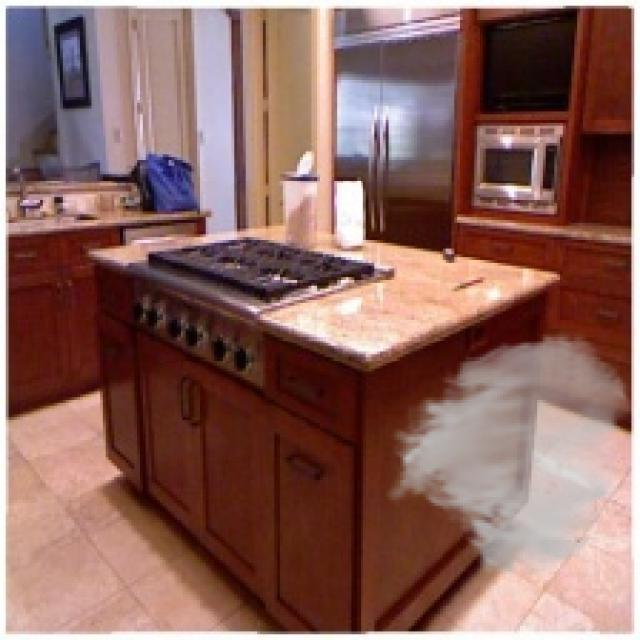Smoke: (383, 331, 634, 580)
